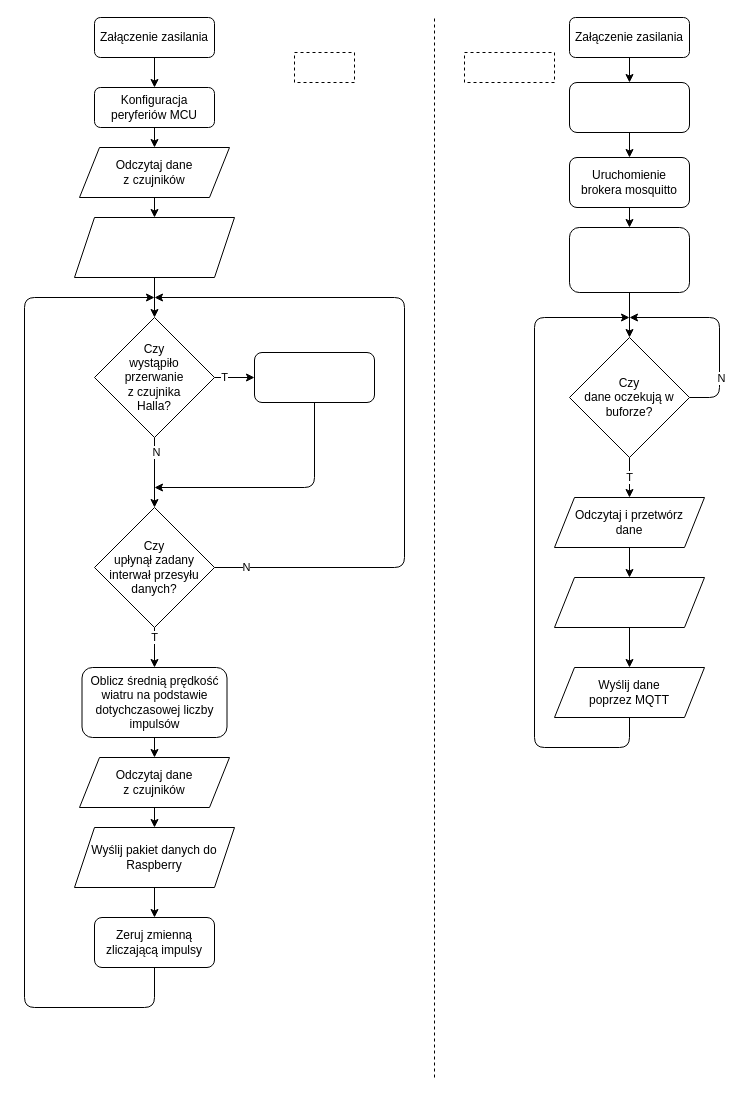
Some shapes in this 745 by 1096 pixel diagram are drawn without their labels. The box of each missing label's shape, as (x1, y1, x2, y2) in pixels:
Inkrementuj zmienną zliczającą impulsy: (254, 352, 374, 402)
Raspberry Pi: (464, 52, 554, 82)
STM32: (294, 52, 354, 82)
Uruchomienie kontenerów z bazą danych i wizualizacją: (568, 82, 690, 132)
Uruchomienie skryptu zbierającego dane z interfejsu komunikacyjnego: (568, 226, 690, 292)
Wyślij pierwszy pakiet danych do Raspberry: (74, 216, 234, 278)
Zapisz dane w bazie: (554, 576, 704, 628)
